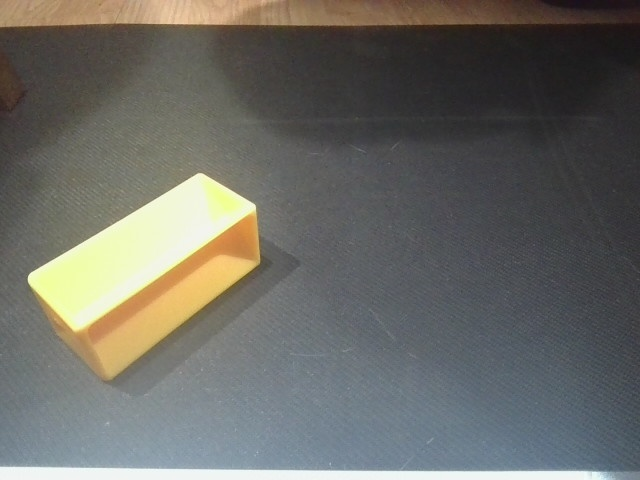YellowSample: (23, 169, 263, 387)
